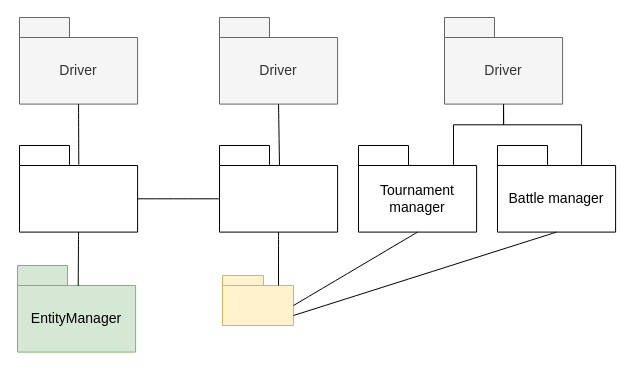
Image size: 634x370. Some labels were removed from this diagram. The shapes that lost their labels are listed below. From the top down, each one's box as (x1, y1, x2, y2) in pixels, then its label:
(18, 144, 138, 232): Model
(218, 144, 338, 232): User access manager
(222, 274, 294, 326): Stub
